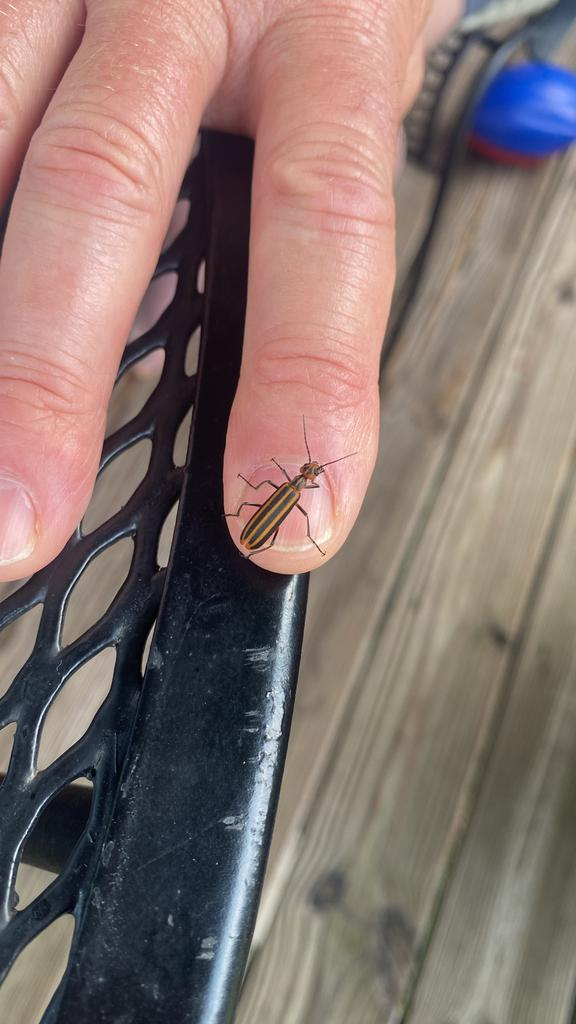blister_beetle: (205, 399, 377, 589)
